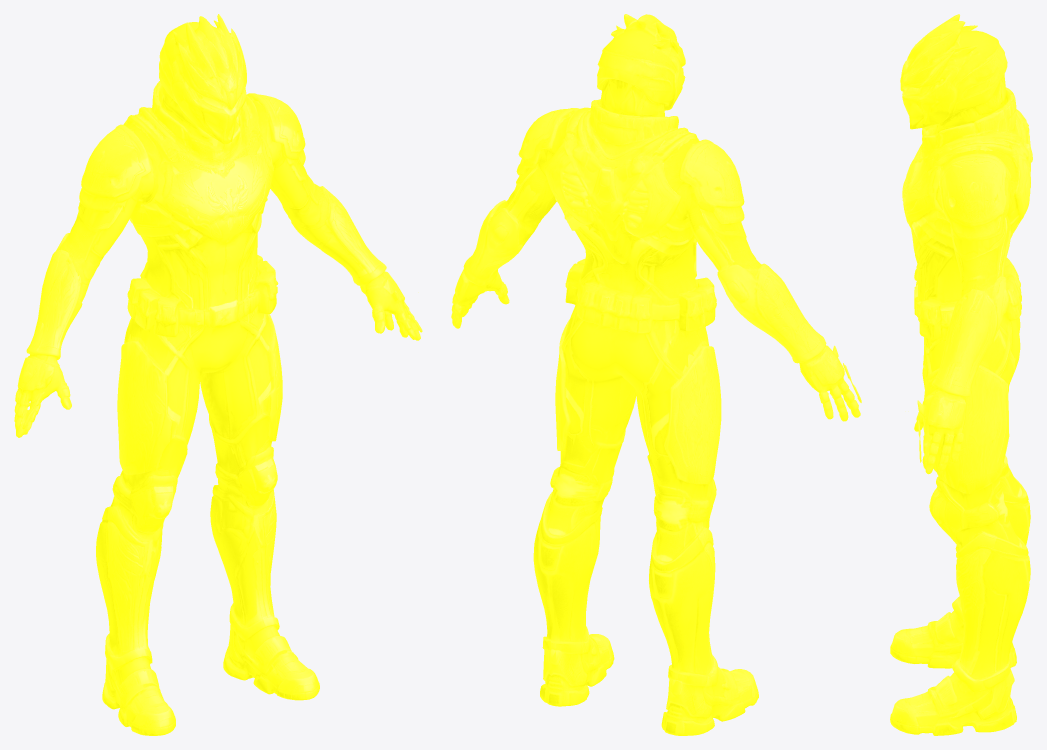
The model's file is golden_phoenix_rigged.glb.
3 views of the same model, side by side, from view 1: azimuth 30°, elevation 25°; view 2: azimuth 150°, elevation 25°; view 3: azimuth 270°, elevation 25° (orthographic).
Parts seen in each view (by area): view 1: Mesh_0; view 2: Mesh_0; view 3: Mesh_0.
Part boxes in pixels (bbox=[...]): Mesh_0: bbox=[14, 14, 422, 735]; Mesh_0: bbox=[451, 14, 861, 735]; Mesh_0: bbox=[890, 14, 1032, 735].
Bounding box in the file's own units: 1.18 × 1.9 × 0.3653.
Materials: 1 (1 with a texture image).
